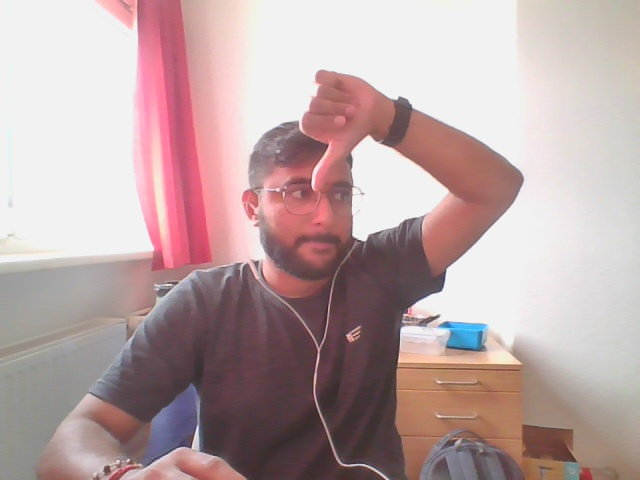ThumbsDown: (299, 66, 383, 193)
